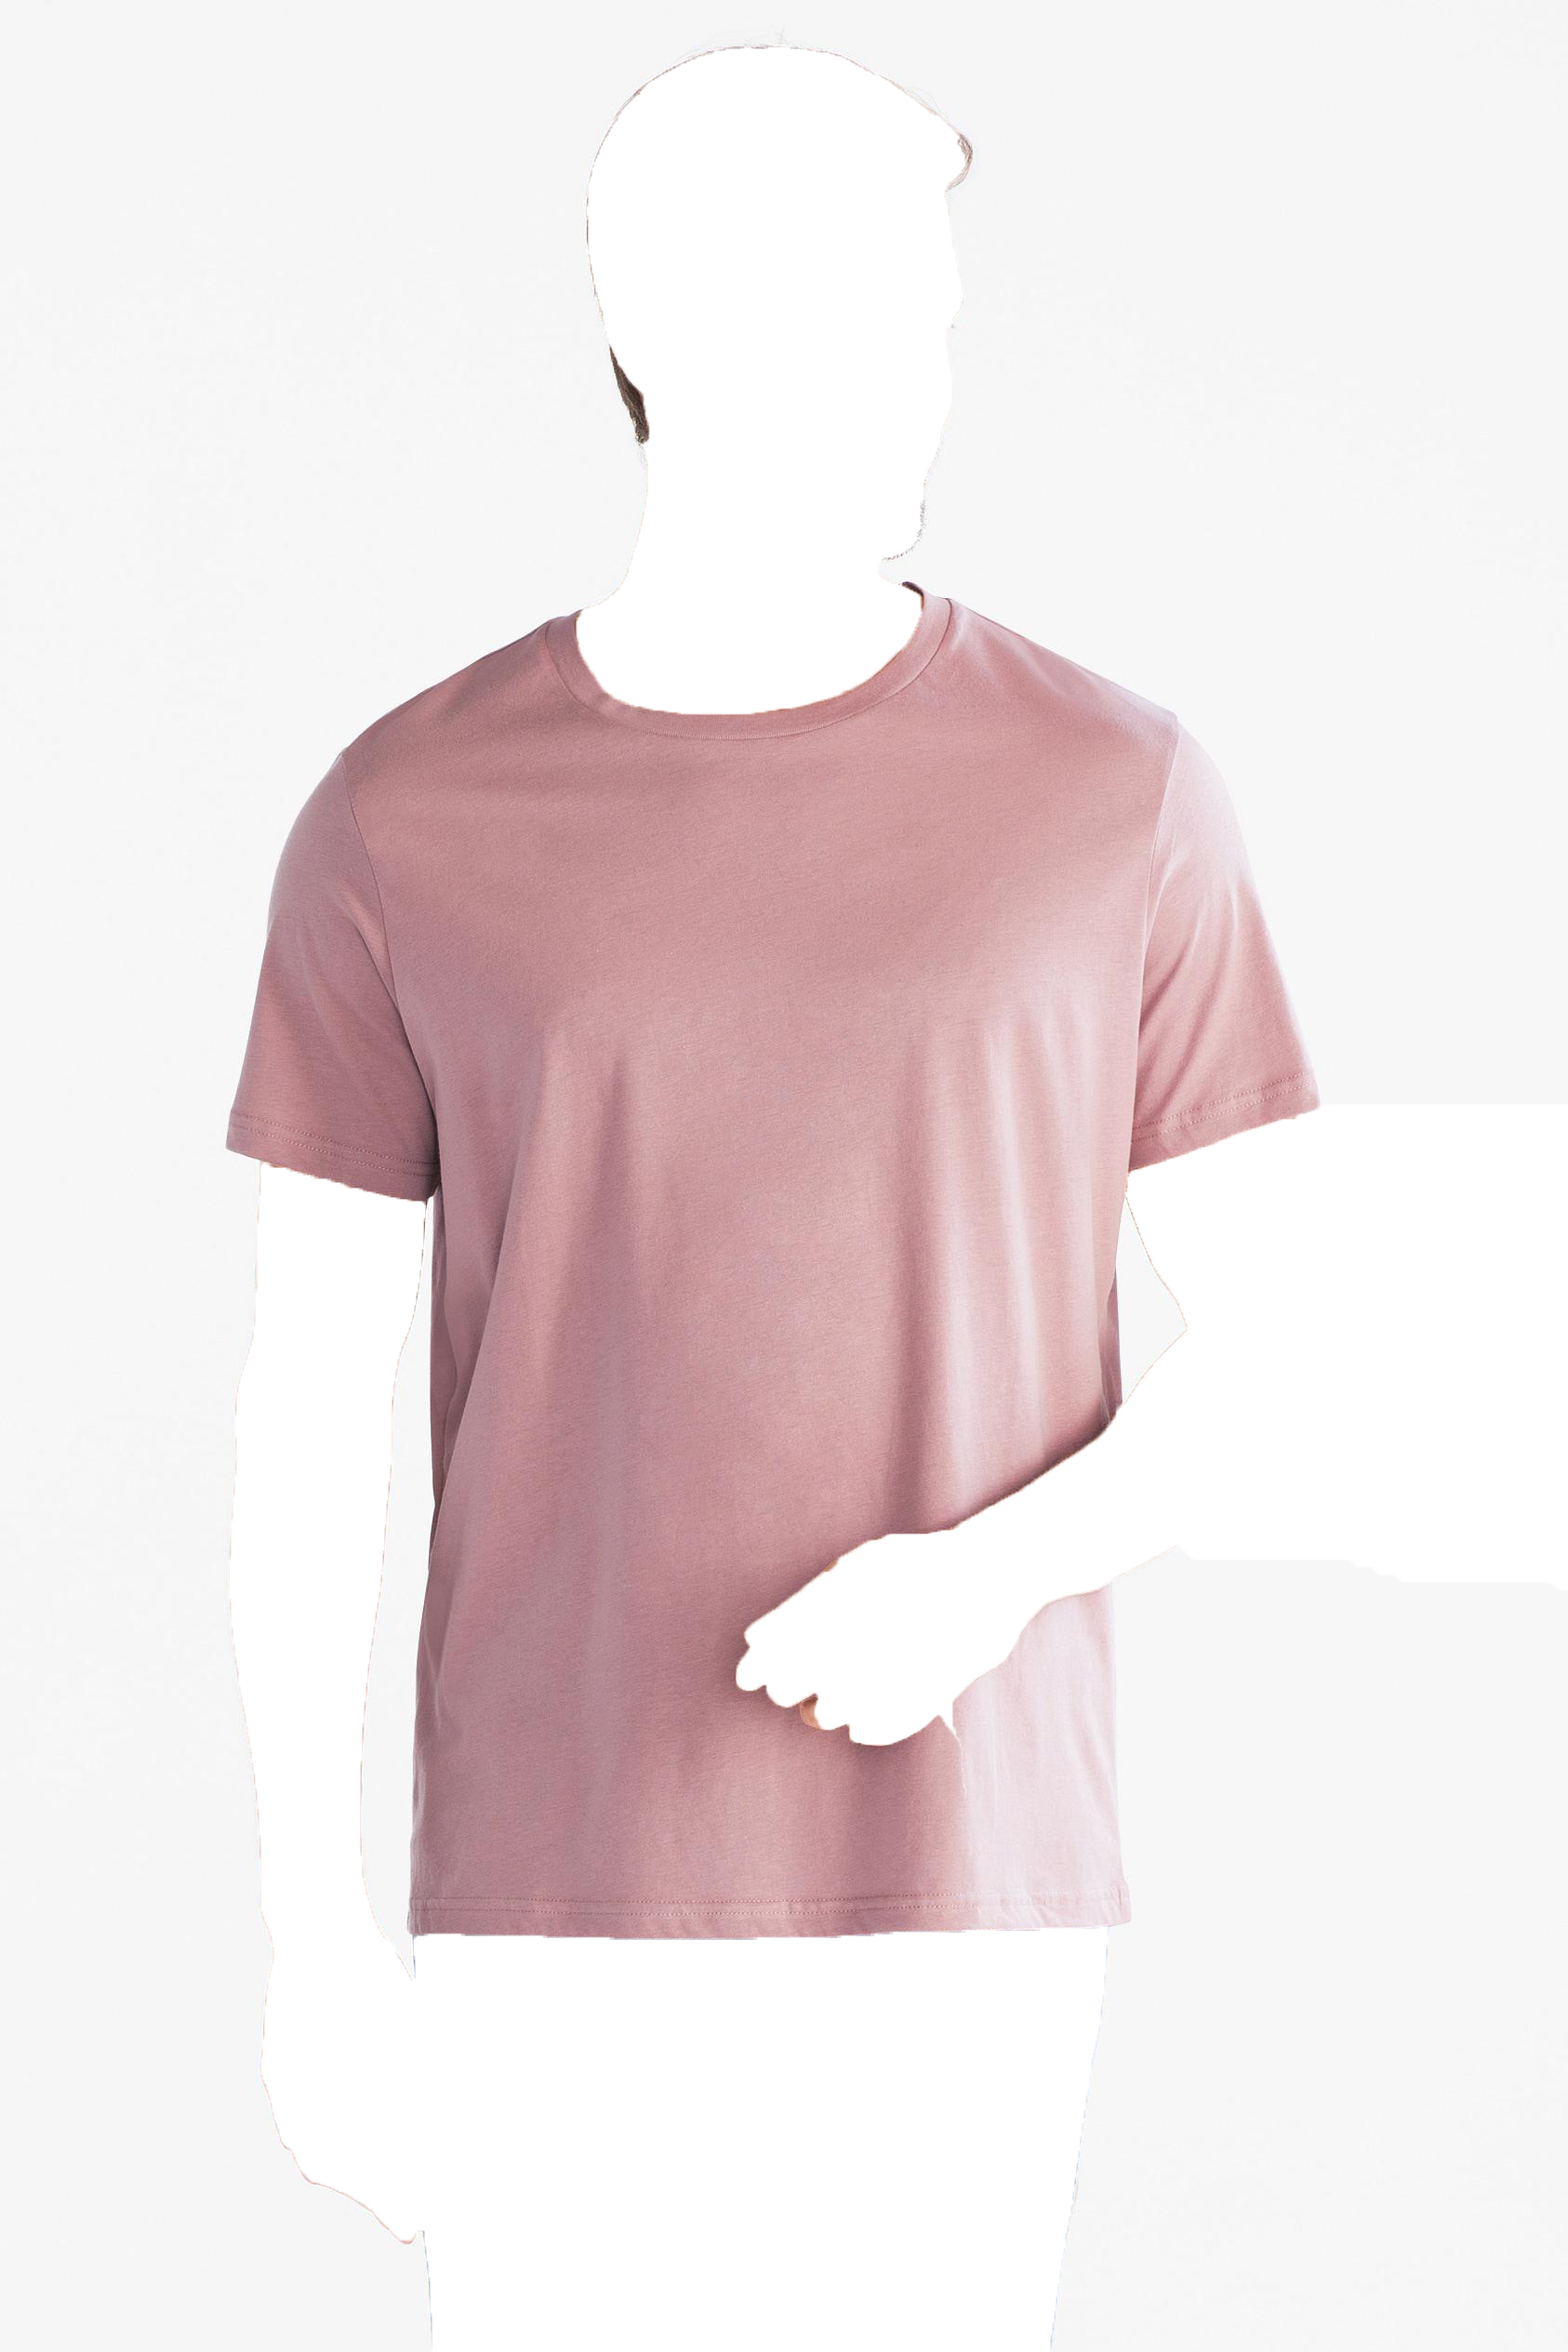teeshirt: (203, 583, 1333, 1944)
